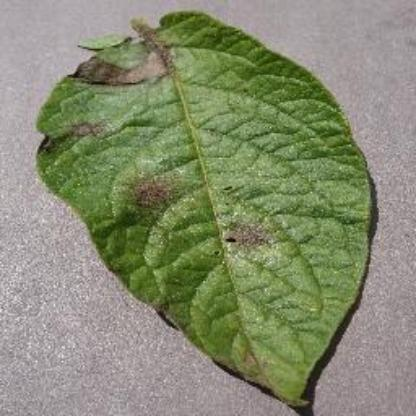Late-Blight: (37, 29, 382, 371)
